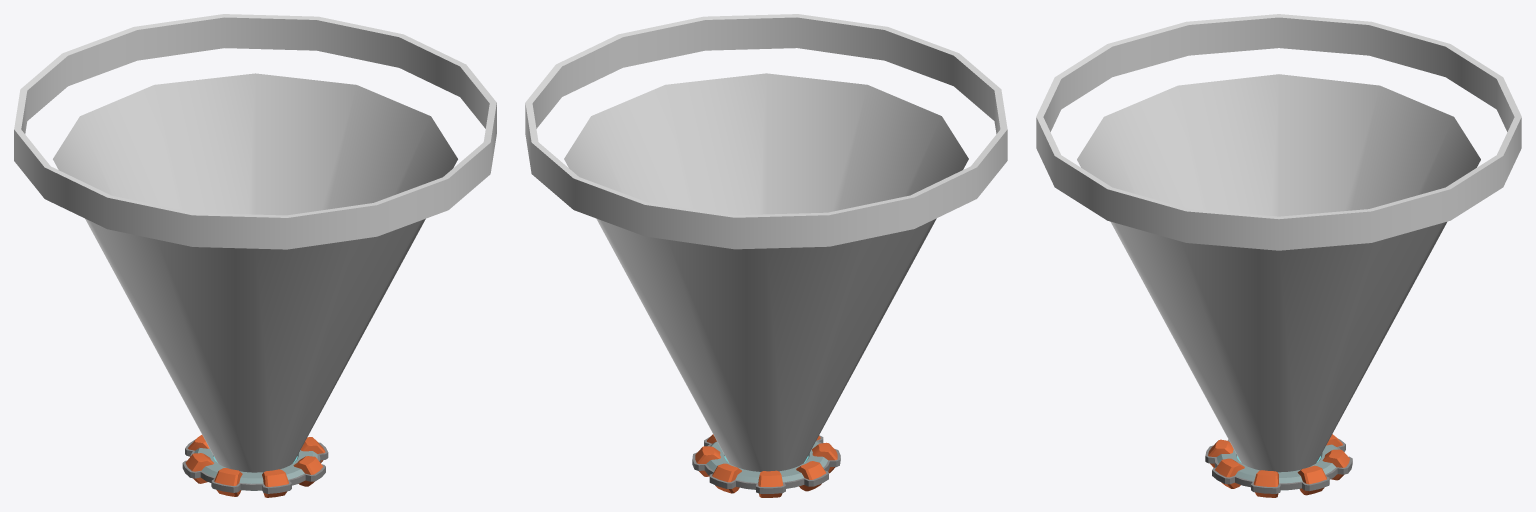
File: Hologram_Displayer.fbx
3 views of the same model, side by side, from view 1: azimuth 30°, elevation 25°; view 2: azimuth 150°, elevation 25°; view 3: azimuth 270°, elevation 25° (orthographic).
Parts seen in each view (by area): view 1: UI_Holo_Light, UI_Disk, UI_Holo_Disk; view 2: UI_Holo_Light, UI_Disk, UI_Holo_Disk; view 3: UI_Holo_Light, UI_Disk, UI_Holo_Disk.
Boxes of the visible parts, x1,y1,x2,y2 form: UI_Holo_Light: [53, 73, 457, 472]; UI_Disk: [14, 14, 496, 249]; UI_Holo_Disk: [182, 435, 328, 497]; UI_Holo_Light: [564, 73, 968, 471]; UI_Disk: [525, 14, 1007, 249]; UI_Holo_Disk: [692, 434, 840, 497]; UI_Holo_Light: [1077, 74, 1480, 472]; UI_Disk: [1036, 14, 1521, 250]; UI_Holo_Disk: [1205, 434, 1352, 497].
Bounding box in the file's own units: 84.36 × 67.94 × 84.36.
